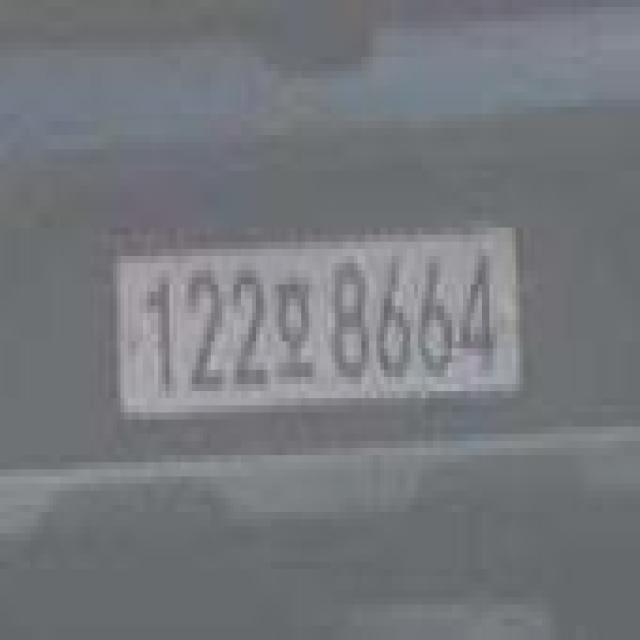illegal_plate: (110, 220, 527, 436)
